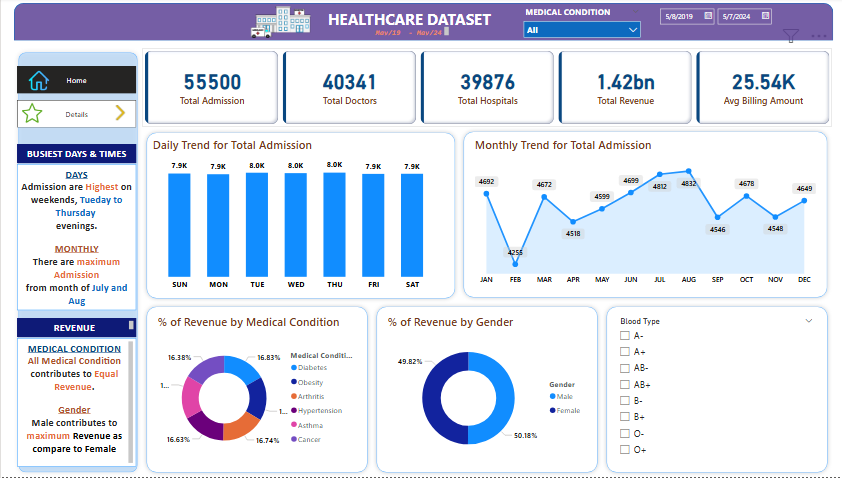

Layout of this report page (visuals, bound fields, positions):
{"tool":"powerbi","page":{"name":"Home","canvas":[1500,852],"ordinal":0},"visuals":[{"type":"shape","box":[22.4,89.7,227.6,762.1],"z":0},{"type":"cardVisual","fields":{"Data":["healthcare_dataset1.Total Admission","healthcare_dataset1.Total Doctors","healthcare_dataset1.Total Hospitals","healthcare_dataset1.Total Revenue","healthcare_dataset1.Avg Billing Amount"]},"box":[250,88.9,1227.8,140.7],"z":1000},{"type":"shape","box":[22.2,9.3,1455.6,66.7],"z":2000},{"type":"textbox","box":[533.2,14.2,385.7,55.1],"z":3000},{"type":"textbox","box":[655,46.7,145,25],"z":4000},{"type":"shape","box":[250,231.5,564.8,311.1],"z":5000},{"type":"columnChart","title":"Daily Trend for Total Admission ","fields":{"Y":["healthcare_dataset1.Total Admission"],"Category":["healthcare_dataset1.Admission Day"]},"box":[264.8,246.3,520.4,279.6],"z":6000},{"type":"shape","box":[814.8,229.6,663,311.1],"z":7000},{"type":"areaChart","title":"Monthly Trend for Total Admission","fields":{"Y":["healthcare_dataset1.Total Admission"],"Category":["healthcare_dataset1.Admission Month"]},"box":[837,246.3,616.7,272.2],"z":8000},{"type":"shape","box":[250,540.7,409.3,311.1],"z":9000},{"type":"shape","box":[659.3,540.7,409.3,311.1],"z":10000},{"type":"shape","box":[1068.5,540.7,409.3,311.1],"z":11000},{"type":"donutChart","title":"% of Revenue by Medical Condition","fields":{"Category":["healthcare_dataset1.Medical Condition"],"Y":["healthcare_dataset1.Total Revenue"]},"box":[274.1,561.1,363,272.2],"z":12000},{"type":"donutChart","title":"% of Revenue by Gender","fields":{"Category":["healthcare_dataset1.Gender"],"Y":["healthcare_dataset1.Total Revenue"]},"box":[683.3,561.1,363,272.2],"z":13000},{"type":"slicer","title":"Total Pizzas Sold by Pizza Category","fields":{"Values":["healthcare_dataset1.Blood Type"]},"box":[1087,561.1,366.7,272.2],"z":14000},{"type":"textbox","box":[29.3,260.3,212.1,34.5],"z":15000},{"type":"textbox","box":[29.3,294.8,212.1,260.3],"z":16000},{"type":"textbox","box":[29.3,569,212.1,34.5],"z":17000},{"type":"textbox","box":[29.3,603.4,212.1,229.3],"z":18000},{"type":"slicer","fields":{"Values":["healthcare_dataset1.Medical Condition"]},"box":[918.5,9.3,227.8,66.7],"z":19000},{"type":"slicer","fields":{"Values":["healthcare_dataset1.Date of Admission"]},"box":[1159.3,9.3,227.8,66.7],"z":20000},{"type":"pageNavigator","box":[28.6,121.4,212.5,50],"z":21000},{"type":"pageNavigator","box":[28.6,182.1,212.5,50],"z":22000},{"type":"image","box":[192.9,181.4,37.1,45.7],"z":23000},{"type":"image","box":[44.3,120,45.7,51.4],"z":24000},{"type":"image","box":[21.4,181.4,68.6,45.7],"z":25000},{"type":"image","box":[439,8.9,115.5,67.5],"z":26000}]}

Visuals, with their boxes in screenshot pixels (x1, y1, x2, y2), scaled from the page's 1500x852 canvas onto the 842x478 screenshot:
shape: detection(13, 50, 140, 477)
cardVisual - healthcare_dataset1.Total Admission x healthcare_dataset1.Total Doctors: detection(140, 50, 830, 129)
shape: detection(12, 5, 830, 43)
textbox: detection(299, 8, 516, 39)
textbox: detection(368, 26, 449, 40)
shape: detection(140, 130, 457, 304)
"Daily Trend for Total Admission " columnChart: detection(149, 138, 441, 295)
shape: detection(457, 129, 830, 303)
"Monthly Trend for Total Admission" areaChart: detection(470, 138, 816, 291)
shape: detection(140, 303, 370, 477)
shape: detection(370, 303, 600, 477)
shape: detection(600, 303, 830, 477)
"% of Revenue by Medical Condition" donutChart: detection(154, 315, 358, 468)
"% of Revenue by Gender" donutChart: detection(384, 315, 587, 468)
"Total Pizzas Sold by Pizza Category" slicer: detection(610, 315, 816, 468)
textbox: detection(16, 146, 136, 165)
textbox: detection(16, 165, 136, 311)
textbox: detection(16, 319, 136, 339)
textbox: detection(16, 339, 136, 467)
slicer - healthcare_dataset1.Medical Condition: detection(516, 5, 643, 43)
slicer - healthcare_dataset1.Date of Admission: detection(651, 5, 779, 43)
pageNavigator: detection(16, 68, 135, 96)
pageNavigator: detection(16, 102, 135, 130)
image: detection(108, 102, 129, 127)
image: detection(25, 67, 51, 96)
image: detection(12, 102, 51, 127)
image: detection(246, 5, 311, 43)
